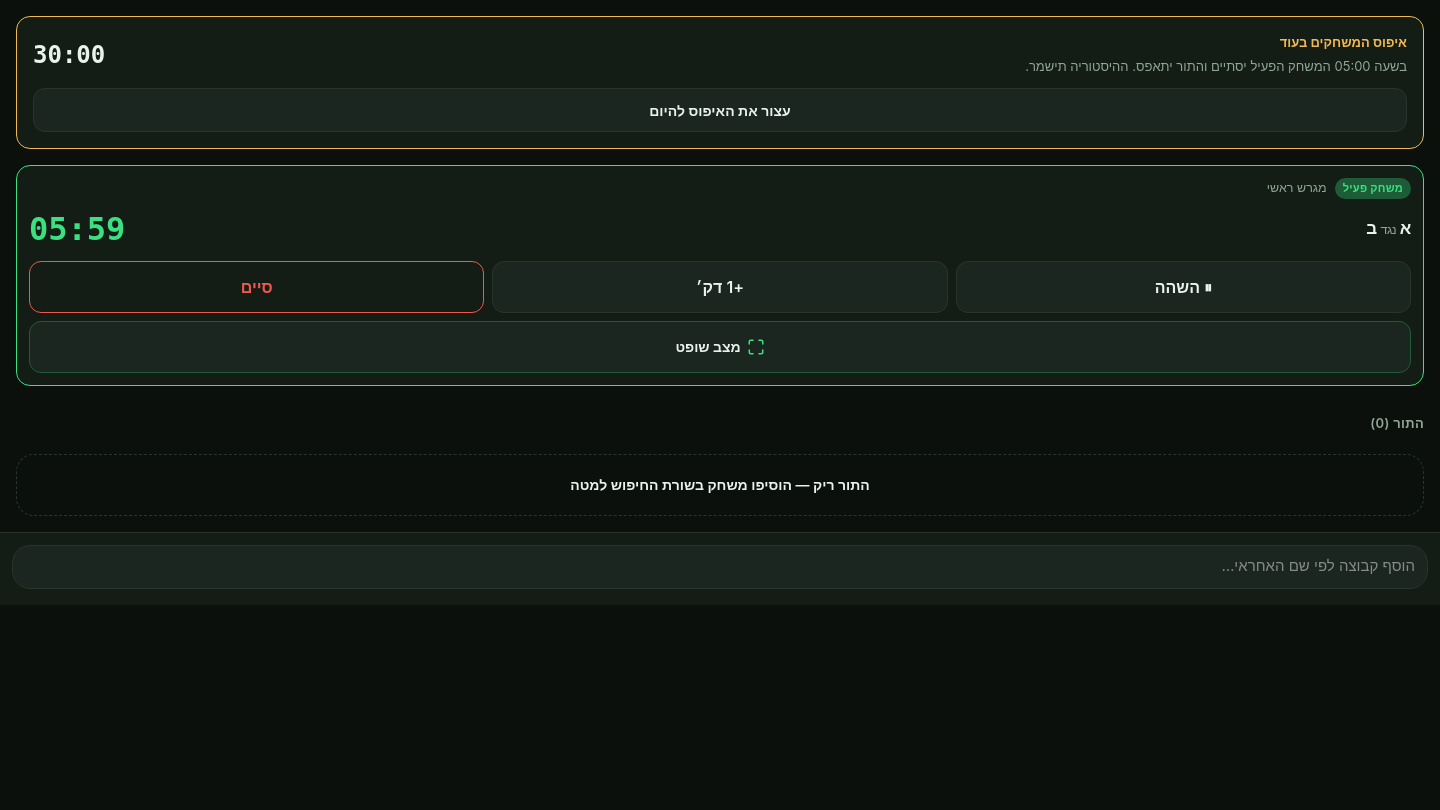
Scenario: MainScreen — active session, field live › simulates the 04:29 hidden state and 04:30 warning card above the match timer, then allows Stop
Expected: the text "איפוס המשחקים בעוד" is shown, top-left (1280, 34), bottom-right (1407, 50)
Expected: the text "30:00" is shown, top-left (33, 36), bottom-right (105, 72)
Click the button "עצור את האיפוס להיום".
click(720, 110)  # box top-left (33, 88), bottom-right (1407, 132)
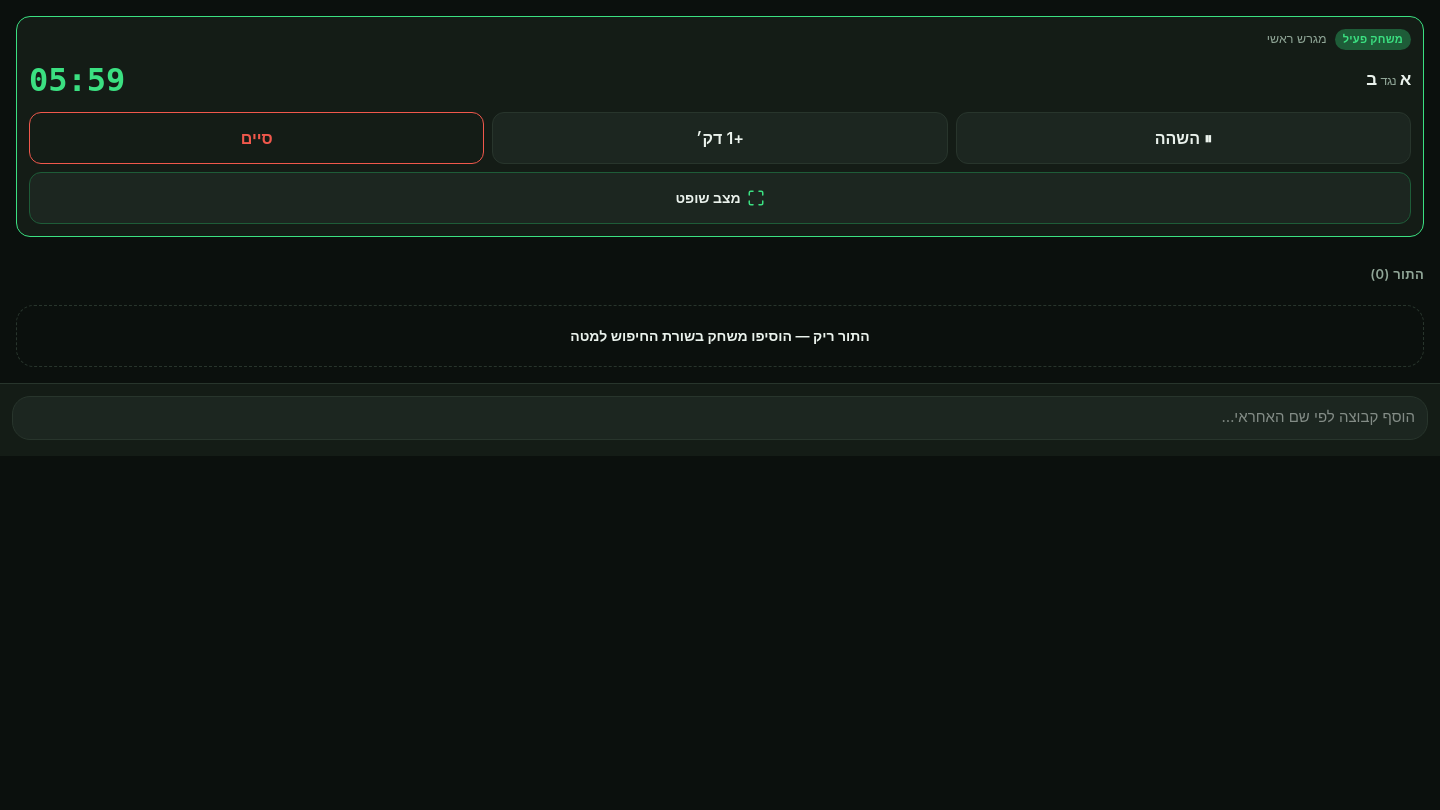
Now the text "איפוס המשחקים בעוד" is gone
